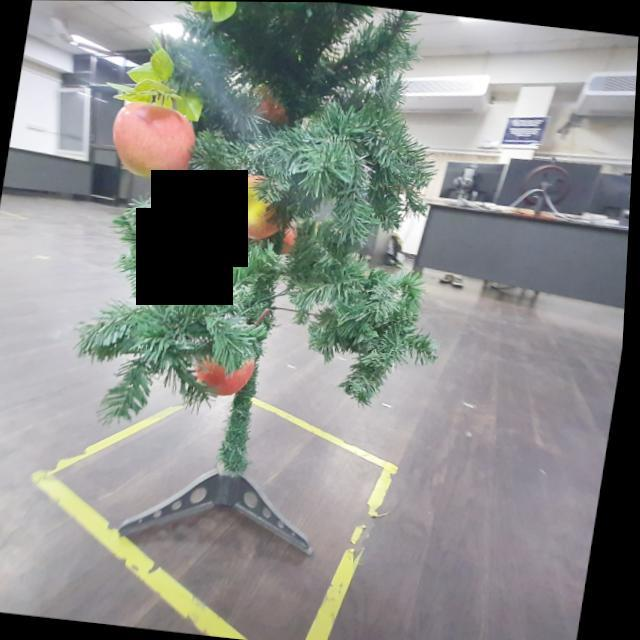Tree: (63, 2, 460, 556)
